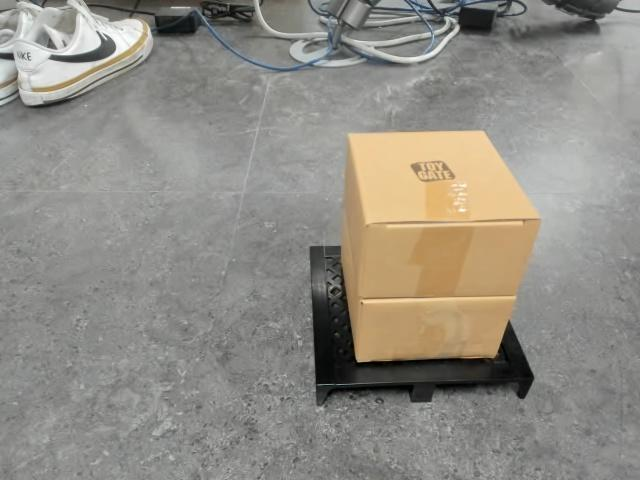box: (310, 128, 543, 407)
